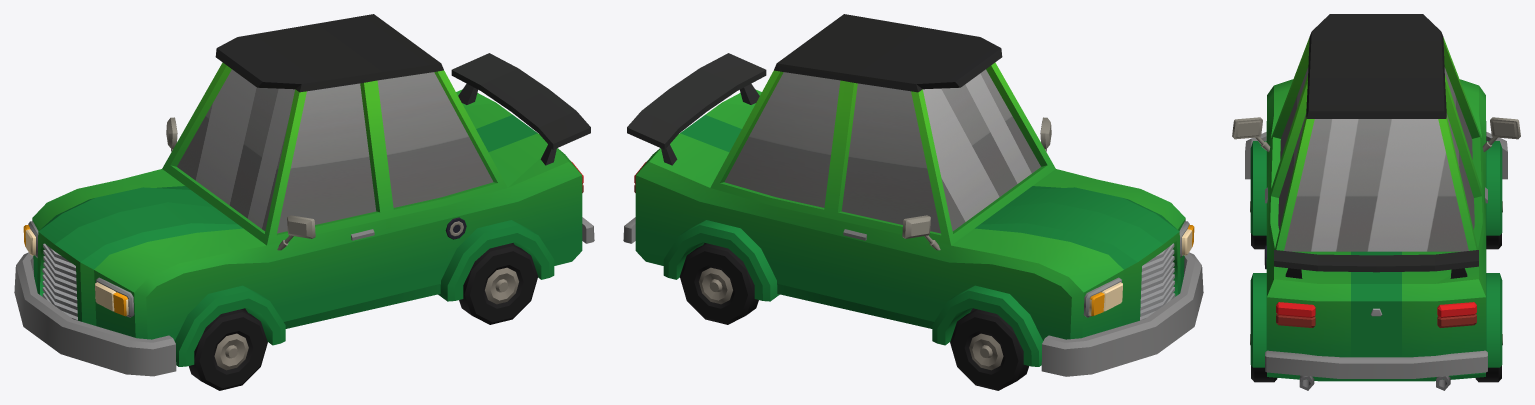
Rendered from Car_2_C.gltf.
The picture shows the model from 3 angles, left to right: view 1: azimuth 30°, elevation 25°; view 2: azimuth 150°, elevation 25°; view 3: azimuth 270°, elevation 25°; orthographic projection.
Parts seen in each view (by area): view 1: Car_2_C, RL, FL; view 2: Car_2_C, RR, FR; view 3: Car_2_C, RL, RR.
Boxes of the visible parts, x1,y1,x2,y2 form: Car_2_C: [14, 14, 594, 376]; RL: [459, 243, 538, 324]; FL: [188, 309, 267, 390]; Car_2_C: [623, 14, 1203, 376]; RR: [679, 243, 758, 324]; FR: [950, 309, 1029, 390]; Car_2_C: [1232, 14, 1520, 390]; RL: [1250, 334, 1277, 382]; RR: [1475, 334, 1502, 382].
Size of the model in its own units: 3.64 by 1.8 by 1.78.
4 materials, 4 textured.
